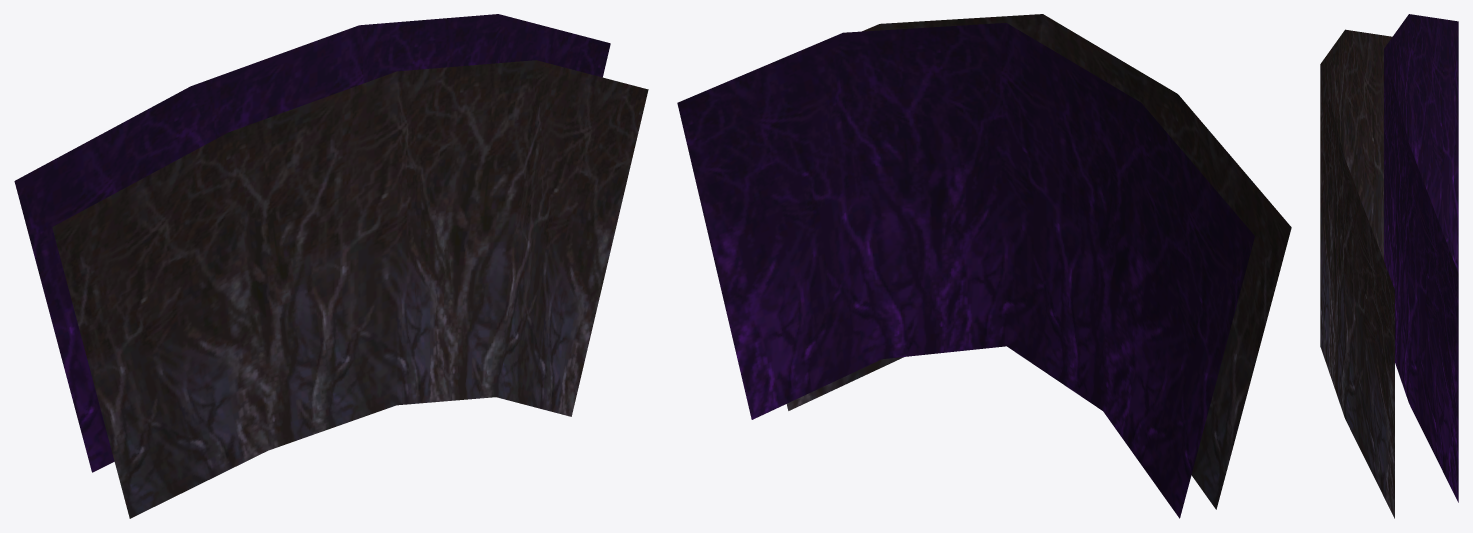
File: EKH_ENTRANCE_PS_EN_TREE_LINE393765.fbx
The picture shows the model from 3 angles, left to right: view 1: azimuth 30°, elevation 25°; view 2: azimuth 150°, elevation 25°; view 3: azimuth 270°, elevation 25°; orthographic projection. The views are drawn at different scales.
Visible parts, largest first — view 1: EKH_ENTRANCE_PS_EN_TREE_LINE393765; view 2: EKH_ENTRANCE_PS_EN_TREE_LINE393765; view 3: EKH_ENTRANCE_PS_EN_TREE_LINE393765.
Part boxes in pixels (x1,y1,x2,y2): EKH_ENTRANCE_PS_EN_TREE_LINE393765: [14, 14, 648, 518]; EKH_ENTRANCE_PS_EN_TREE_LINE393765: [677, 14, 1291, 518]; EKH_ENTRANCE_PS_EN_TREE_LINE393765: [1320, 14, 1458, 518].
Size of the model in its own units: 353434 by 254664 by 83986.
Materials: 2 (2 with a texture image).
